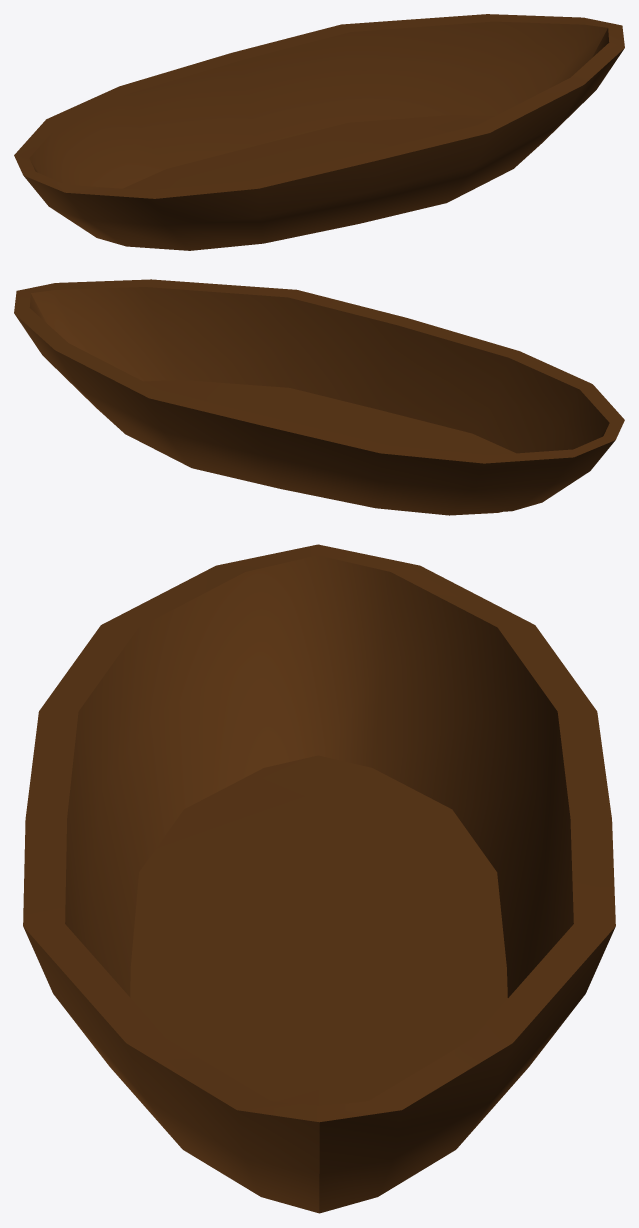
The model's file is boat.fbx.
3 views of the same model, one above another, from view 1: azimuth 30°, elevation 25°; view 2: azimuth 150°, elevation 25°; view 3: azimuth 270°, elevation 25° (orthographic). The views are drawn at different scales.
Visible parts, largest first — view 1: Boat; view 2: Boat; view 3: Boat.
Boxes of the visible parts, box(x1,y1,x2,y2) form: Boat: box(14, 14, 624, 250); Boat: box(14, 279, 624, 515); Boat: box(23, 544, 615, 1213).
Size of what is drawn, in the model's own units: 781 by 140 by 335.
